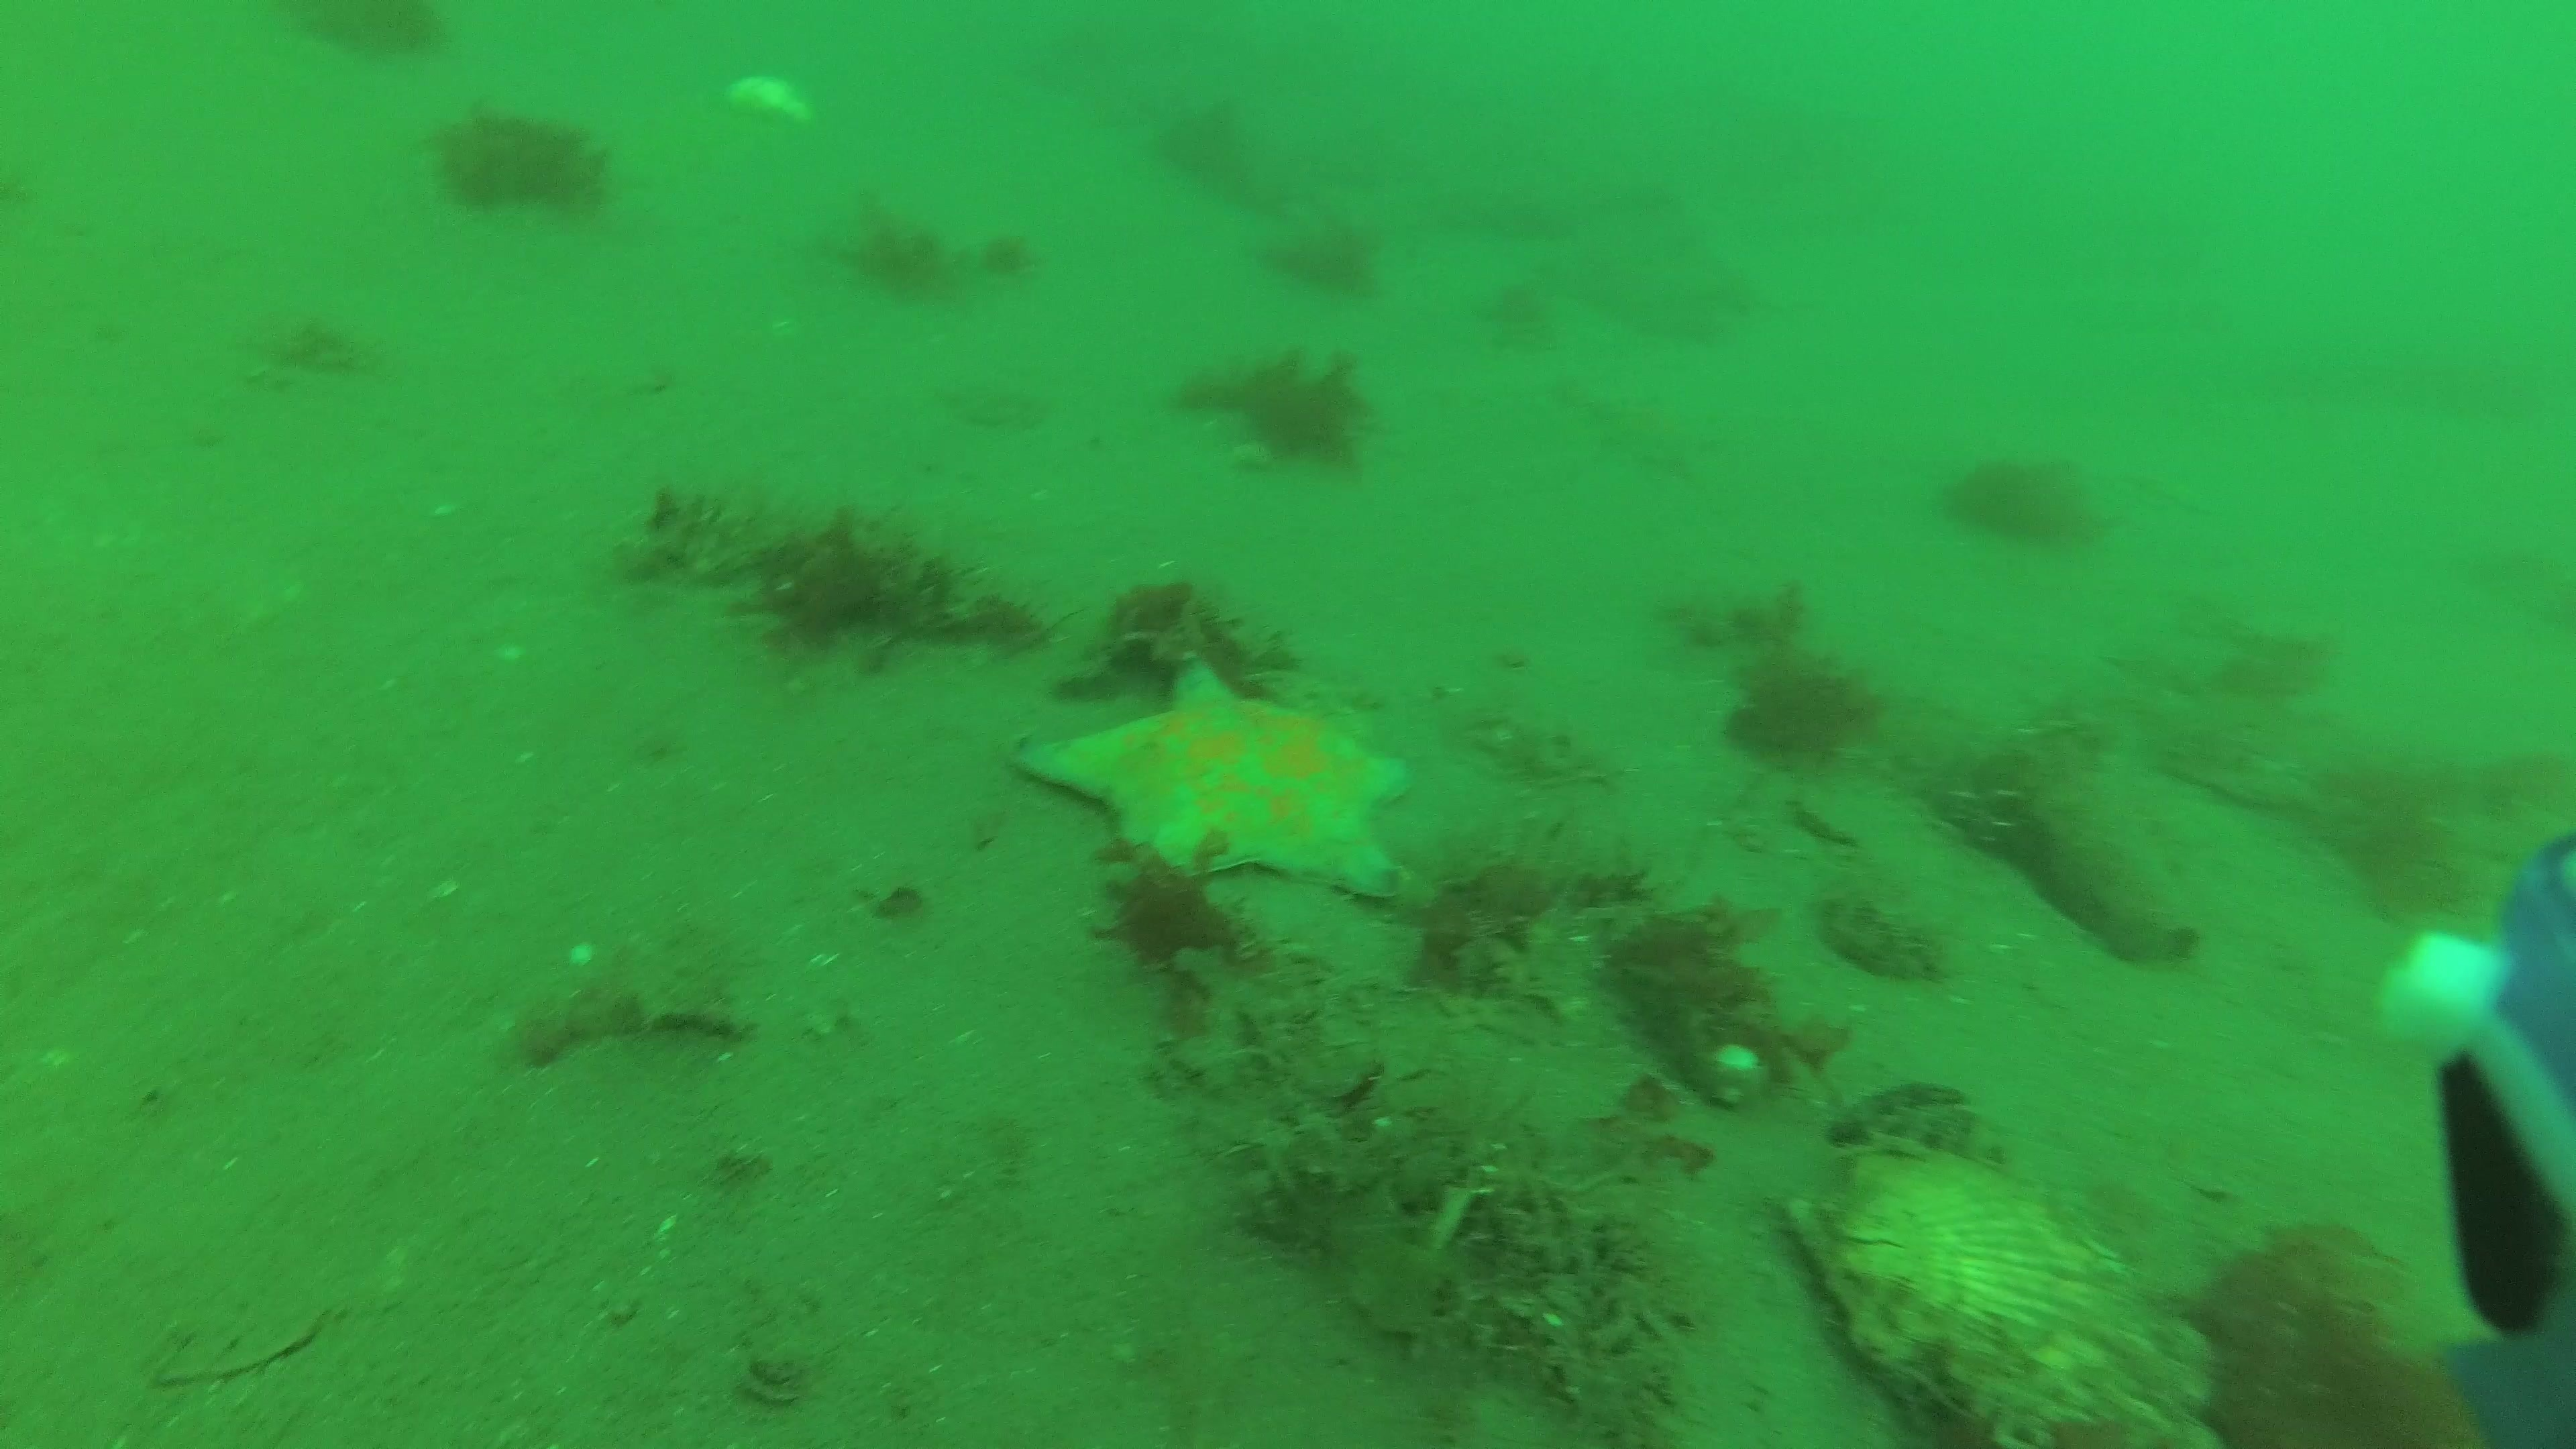holothurian: (1939, 690, 2114, 851)
scallop: (1778, 1136, 2215, 1449)
starfish: (1012, 649, 1421, 906)
